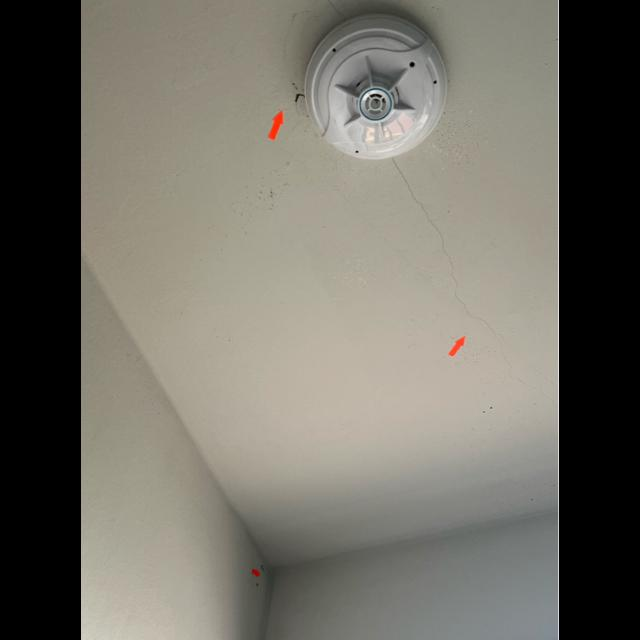Smoke-Detector: (304, 13, 450, 159)
